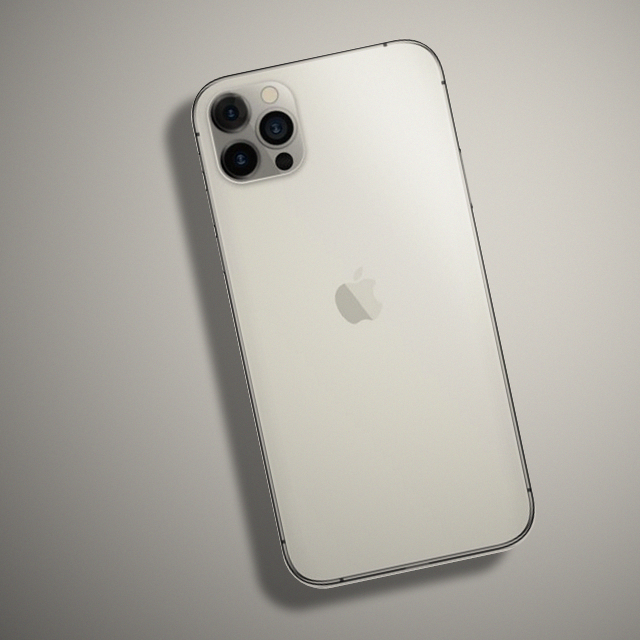iphone_12pro_silver: (154, 13, 552, 615), (192, 71, 319, 192)
